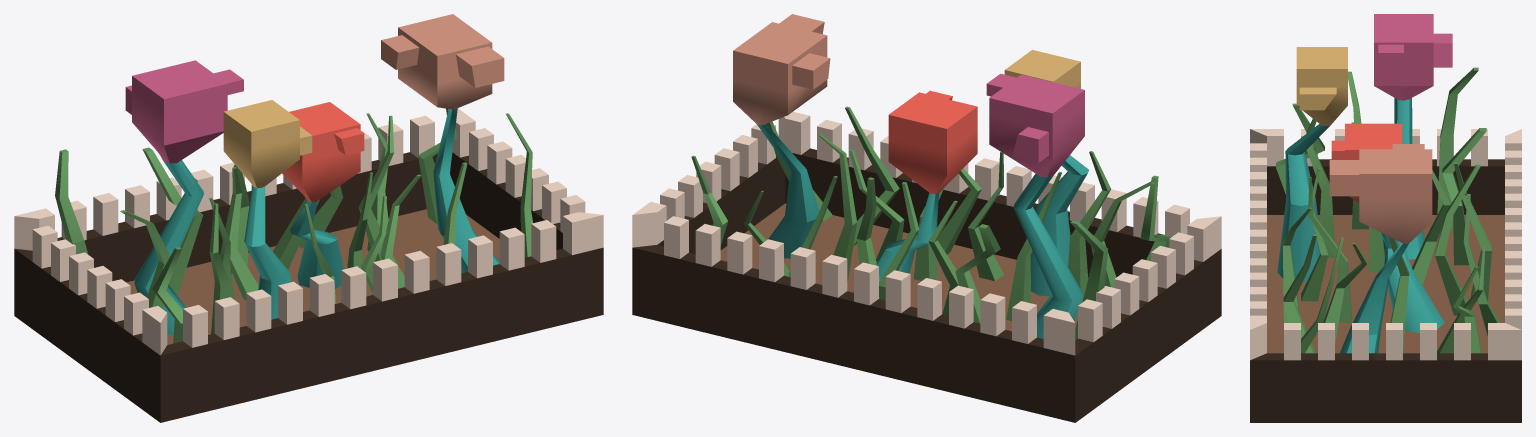
File: flowerbed 1.fbx
3 renders of one model, left to right at view 1: azimuth 30°, elevation 25°; view 2: azimuth 150°, elevation 25°; view 3: azimuth 270°, elevation 25°, orthographic. The views are drawn at different scales.
Parts seen in each view (by area): view 1: pCube1; view 2: pCube1; view 3: pCube1.
Part boxes in pixels (x1,y1,x2,y2): pCube1: (14, 14, 603, 422); pCube1: (632, 14, 1221, 422); pCube1: (1250, 14, 1521, 422).
Size of the model in its own units: 56 by 31.13 by 32.
1 material, 1 textured.
